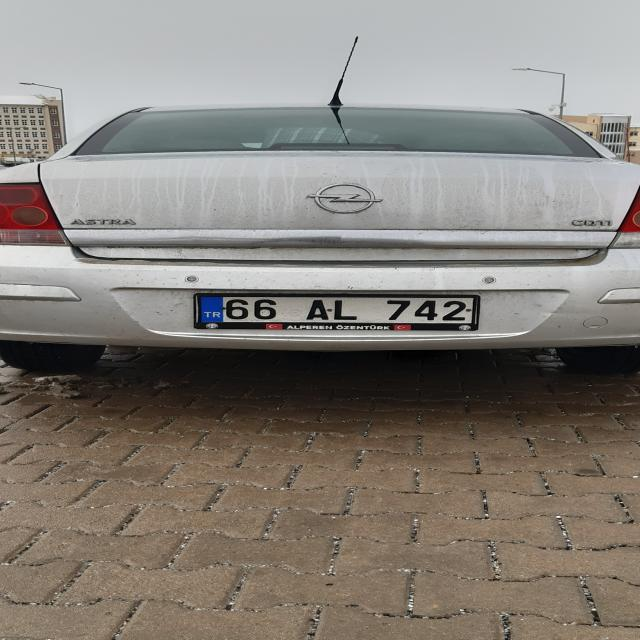license_plate: (196, 295, 477, 324)
